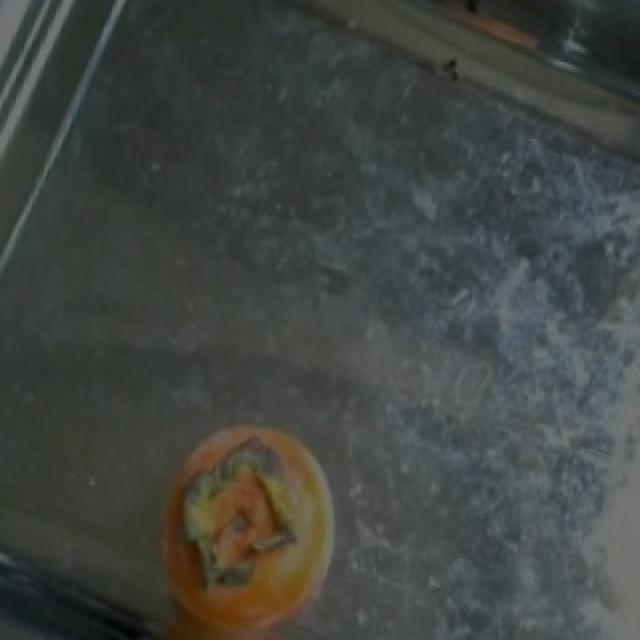Fruit: (138, 402, 364, 635)
